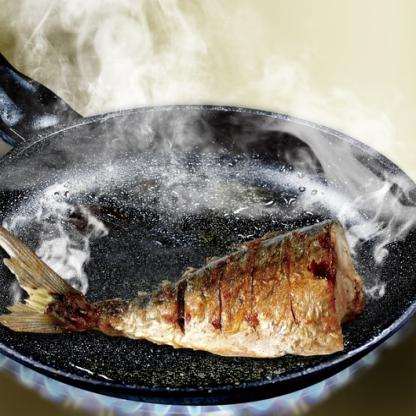Peixe: (0, 217, 375, 370)
